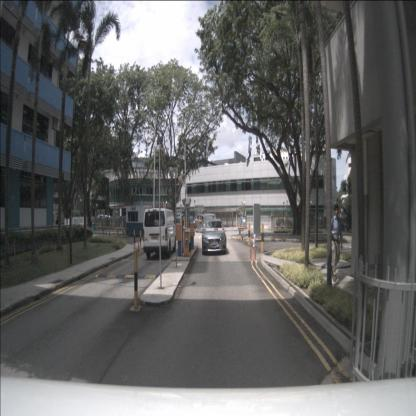human-pedestrian-adult: (328, 203, 343, 282), (56, 216, 60, 237)
movable_object-trafficcone: (253, 239, 257, 262), (249, 239, 252, 261), (137, 240, 141, 254)
vehicle-car: (141, 207, 176, 259), (202, 220, 226, 257), (195, 214, 212, 233), (203, 213, 217, 236)
